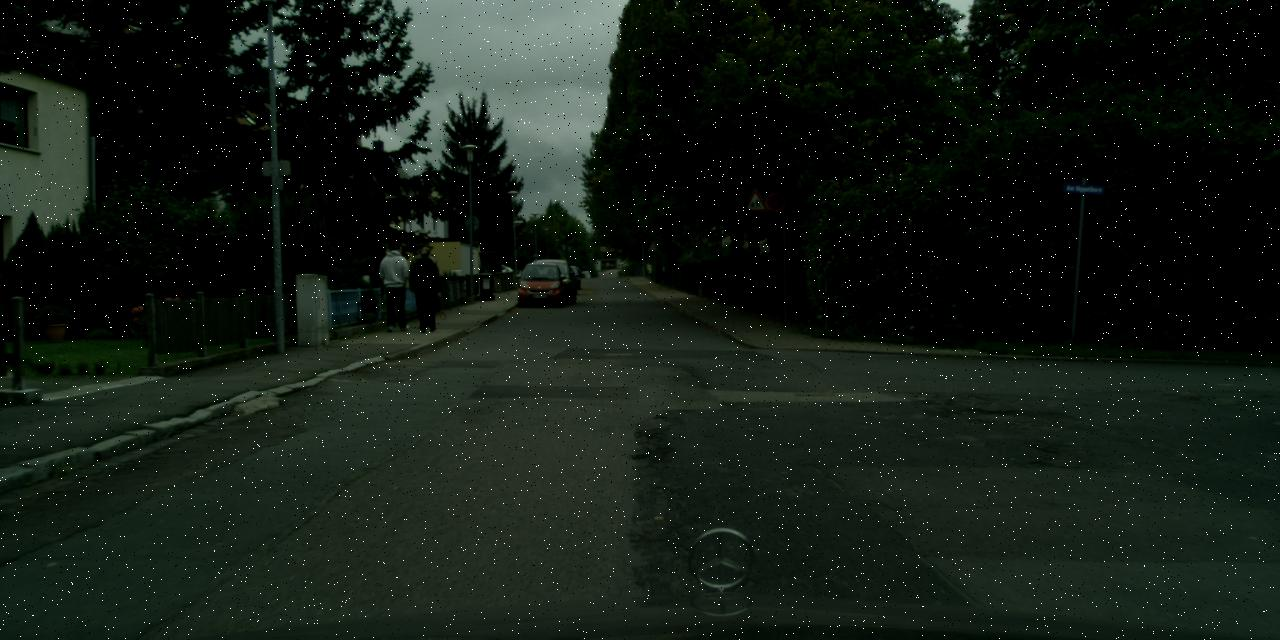ped: (378, 241, 414, 330), (410, 245, 444, 331), (408, 243, 441, 323)
